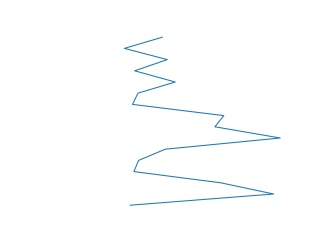majorRiverBedLagDeposit: (126, 38, 283, 209)
